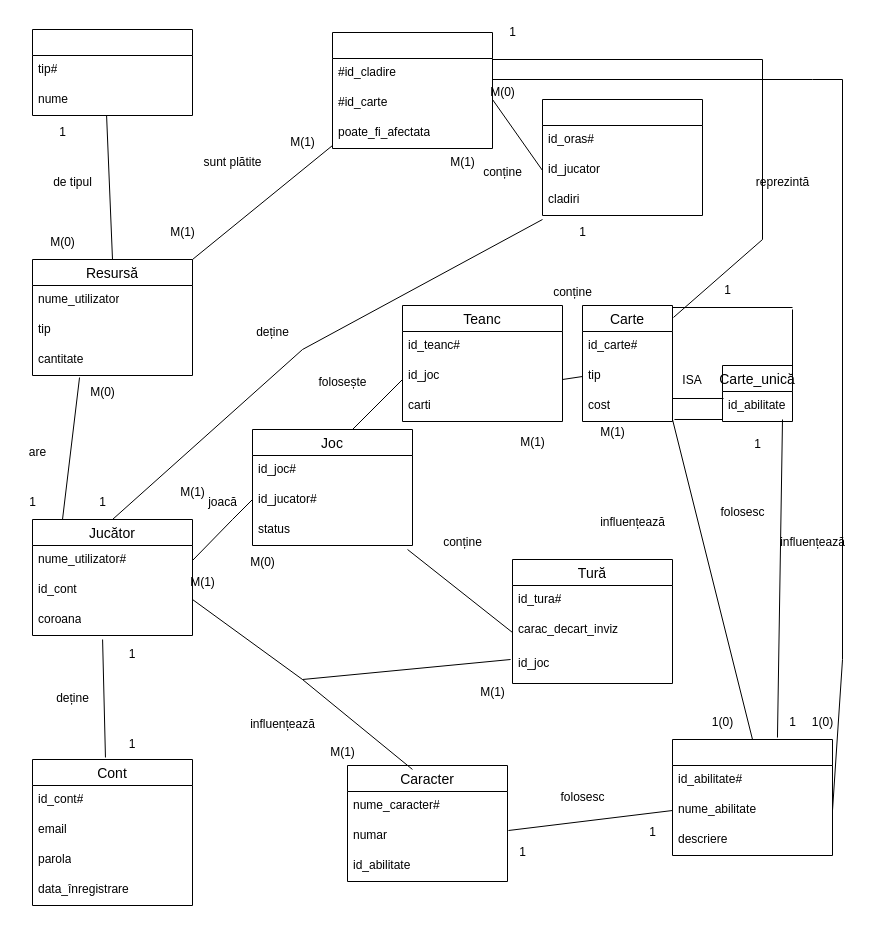
Some shapes in this 874 by 925 pixel diagram are drawn without their labels. The box of each missing label's shape, as (x1, y1, x2, y2) in pixels:
Abilități: (672, 738, 832, 856)
Clădire: (332, 32, 492, 148)
Oraș: (542, 98, 702, 216)
Tip resursă: (32, 28, 192, 116)
